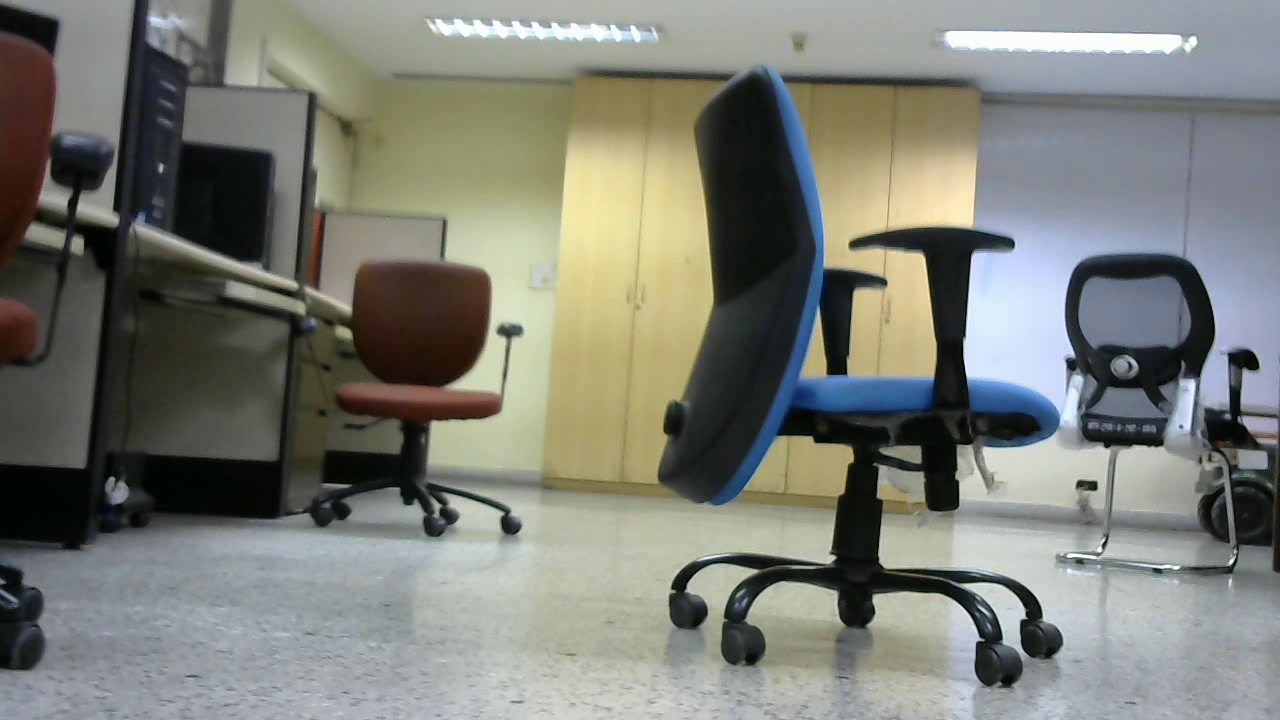chair: (648, 60, 1061, 689), (1052, 247, 1249, 584), (315, 248, 522, 552)
